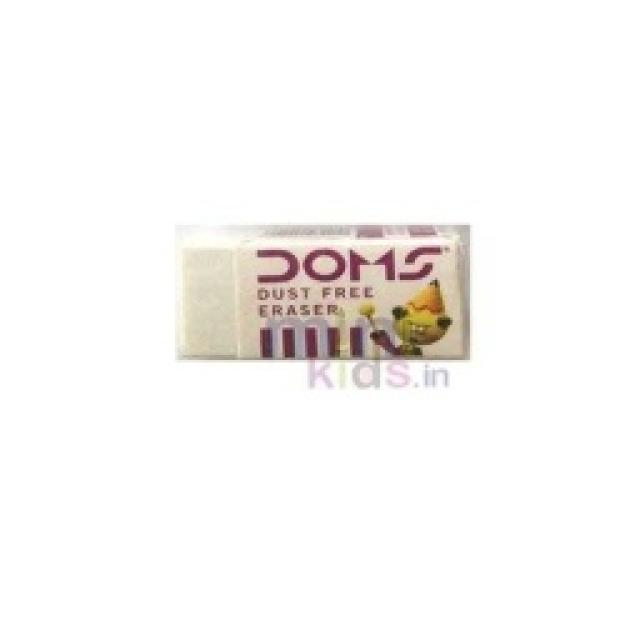Silgi: (172, 219, 473, 363)
